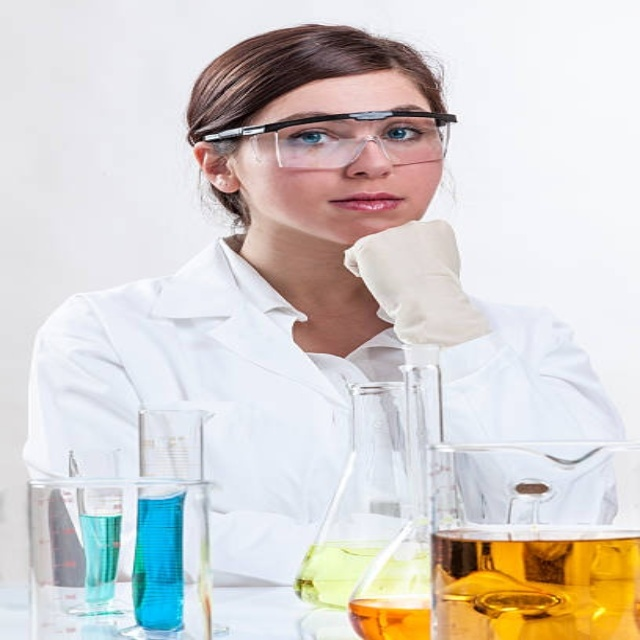Gafas: (207, 112, 456, 171)
Guantes: (342, 218, 493, 347)
Sin_mascara: (322, 182, 411, 216)
